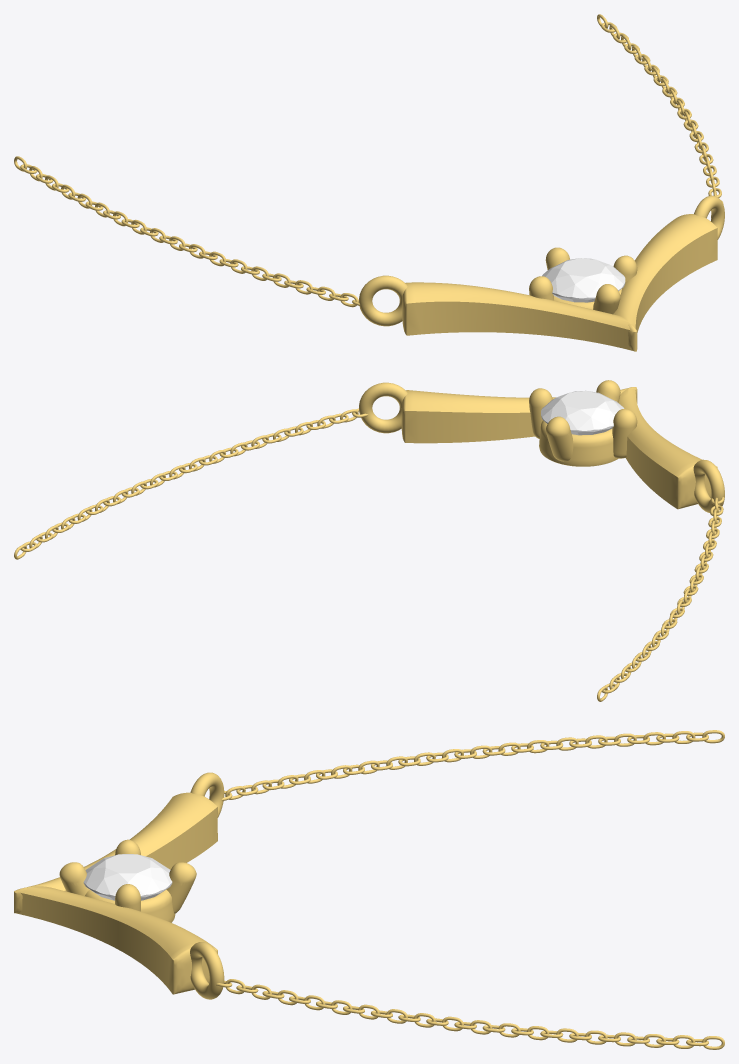
Rendered from Tristanpendant_webgi.glb.
The picture shows the model from 3 angles, top to bottom: view 1: azimuth 30°, elevation 25°; view 2: azimuth 150°, elevation 25°; view 3: azimuth 270°, elevation 25°; orthographic projection. The views are drawn at different scales.
Parts seen in each view (by area): view 1: Tristan_YG_for_3d_model, Tristan_dia_for_3d_model; view 2: Tristan_YG_for_3d_model, Tristan_dia_for_3d_model; view 3: Tristan_YG_for_3d_model, Tristan_dia_for_3d_model.
Part boxes in pixels (box(x1,y1,x2,y2)): Tristan_YG_for_3d_model: box(14, 14, 724, 351); Tristan_dia_for_3d_model: box(542, 258, 625, 302); Tristan_YG_for_3d_model: box(14, 380, 724, 701); Tristan_dia_for_3d_model: box(541, 390, 624, 435); Tristan_YG_for_3d_model: box(14, 730, 724, 1049); Tristan_dia_for_3d_model: box(83, 854, 172, 900).
Bounding box in the file's own units: 2.87 × 0.2445 × 2.77.
